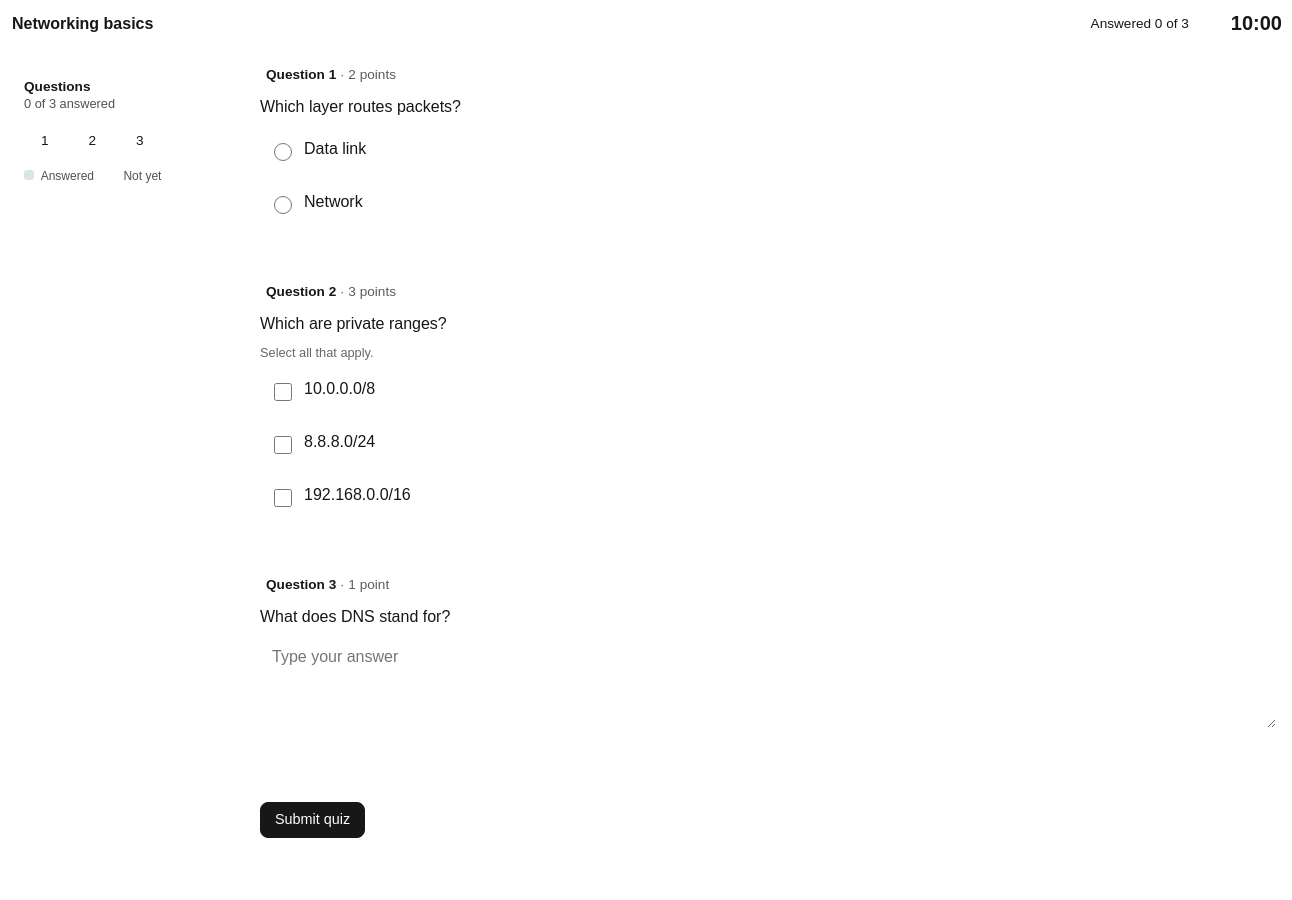
Test: AttemptRunner › shows the server's reason when an answer is refused
This screenshot has width=1292, height=900.
Click the radio button labelled "Network": click(283, 205) 274,196 -> 292,214
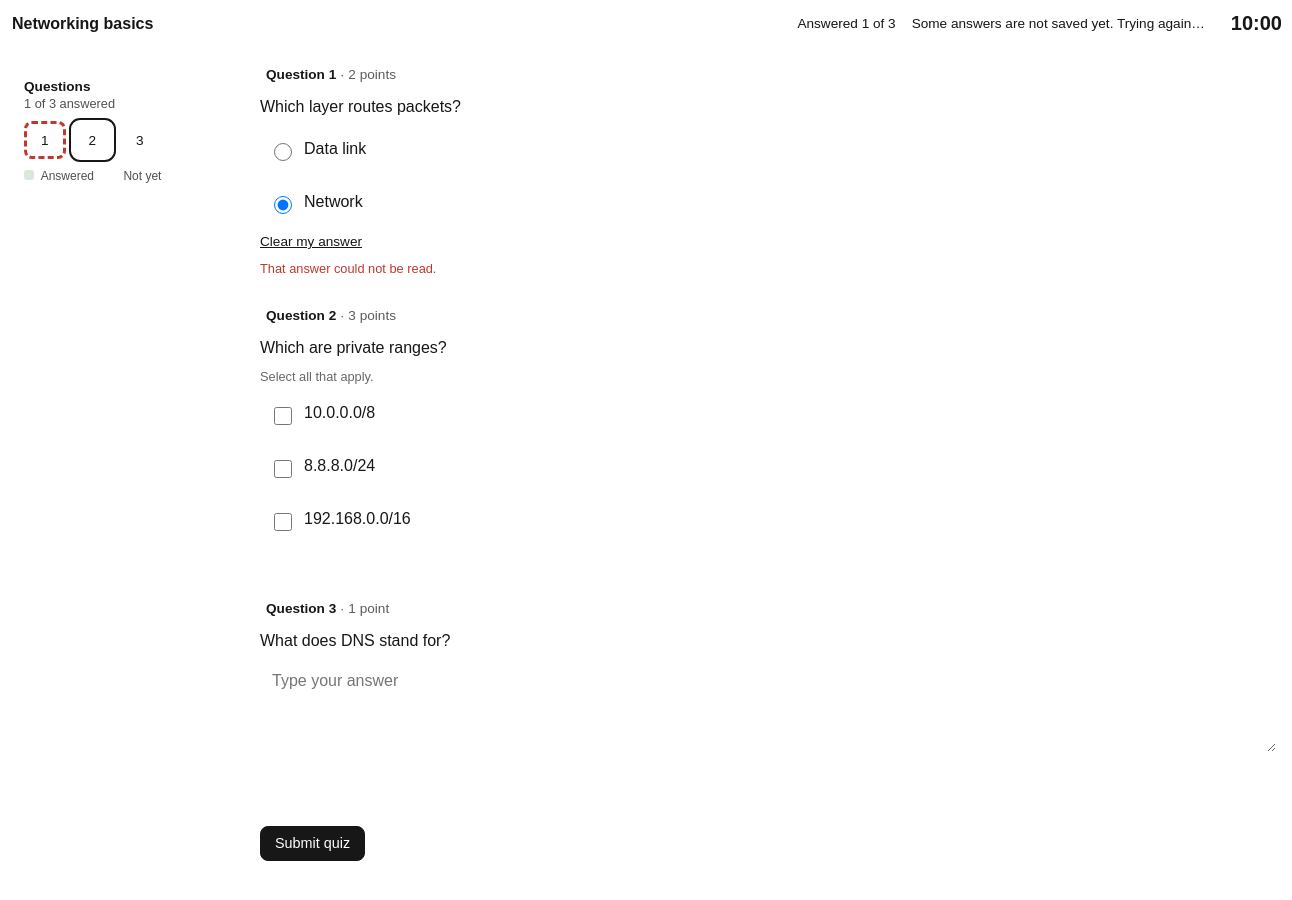
Now the text "That answer could not be read." is shown, box 260,261 -> 436,276
